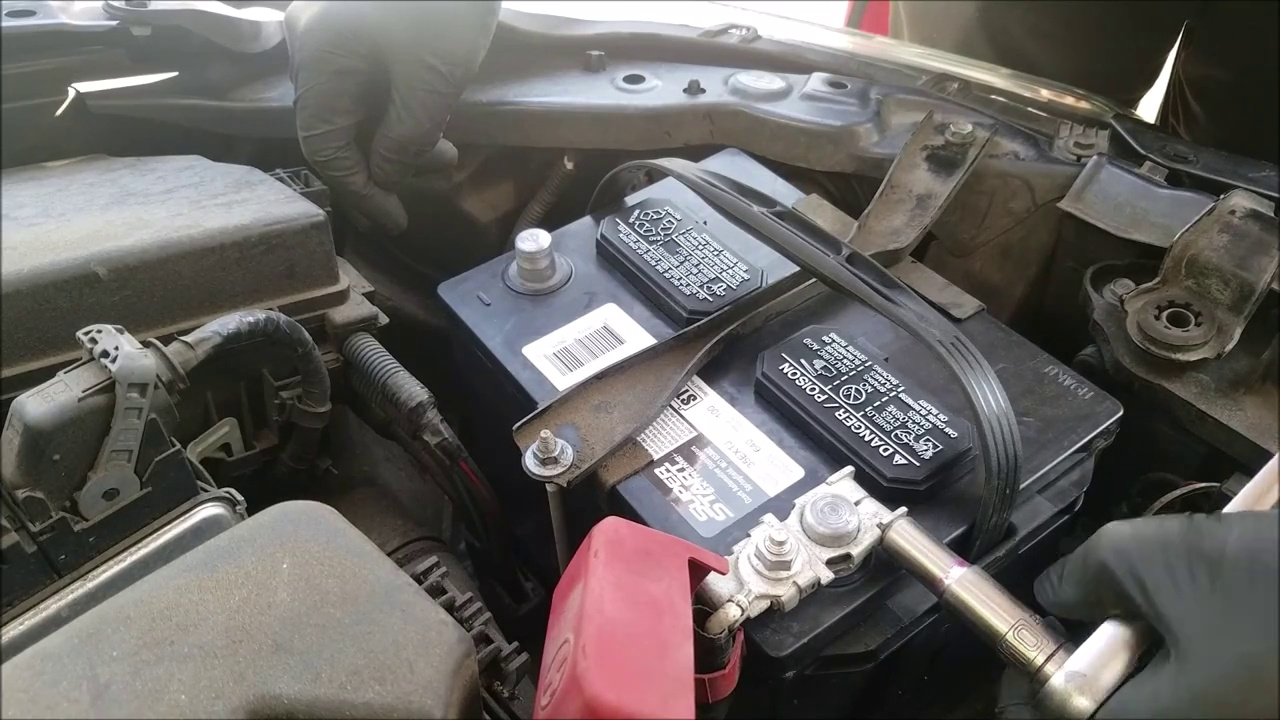battery: (427, 137, 1129, 683)
neg_disconnected: (461, 178, 612, 339)
pos_connected: (527, 444, 909, 690)
